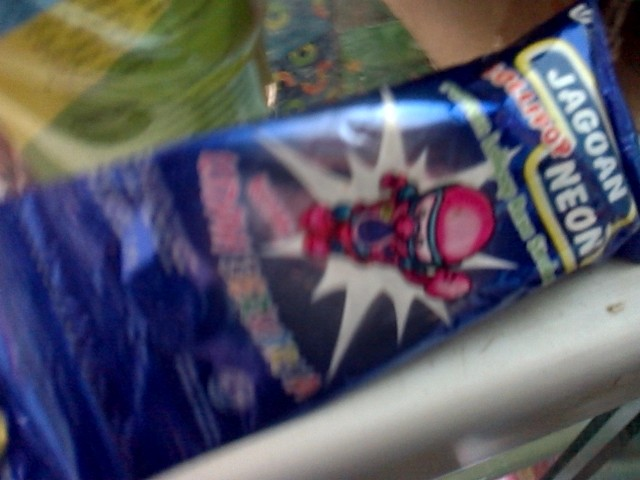jagoan neon: (24, 1, 640, 475)
